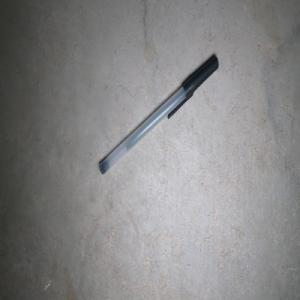Pen: (99, 56, 218, 174)
